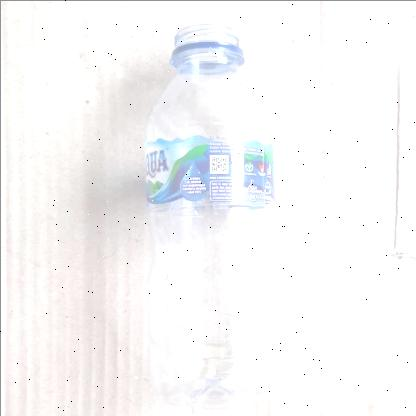Plastic Bottle: (144, 22, 276, 412)
